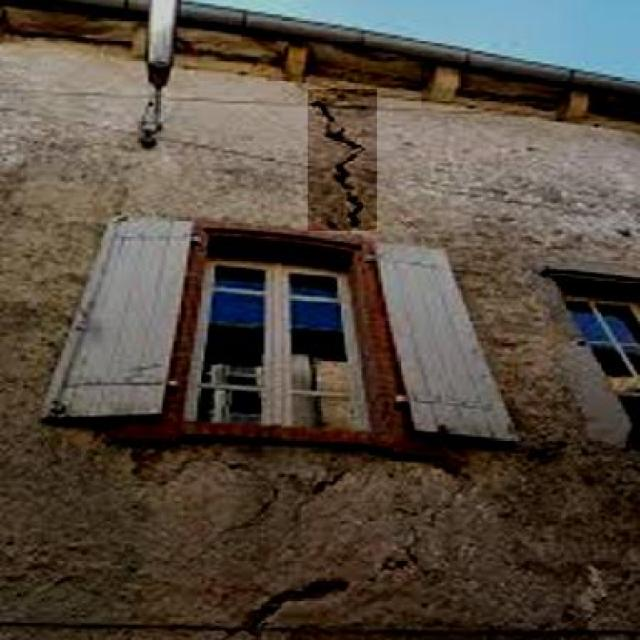Crack: (309, 91, 378, 228)
